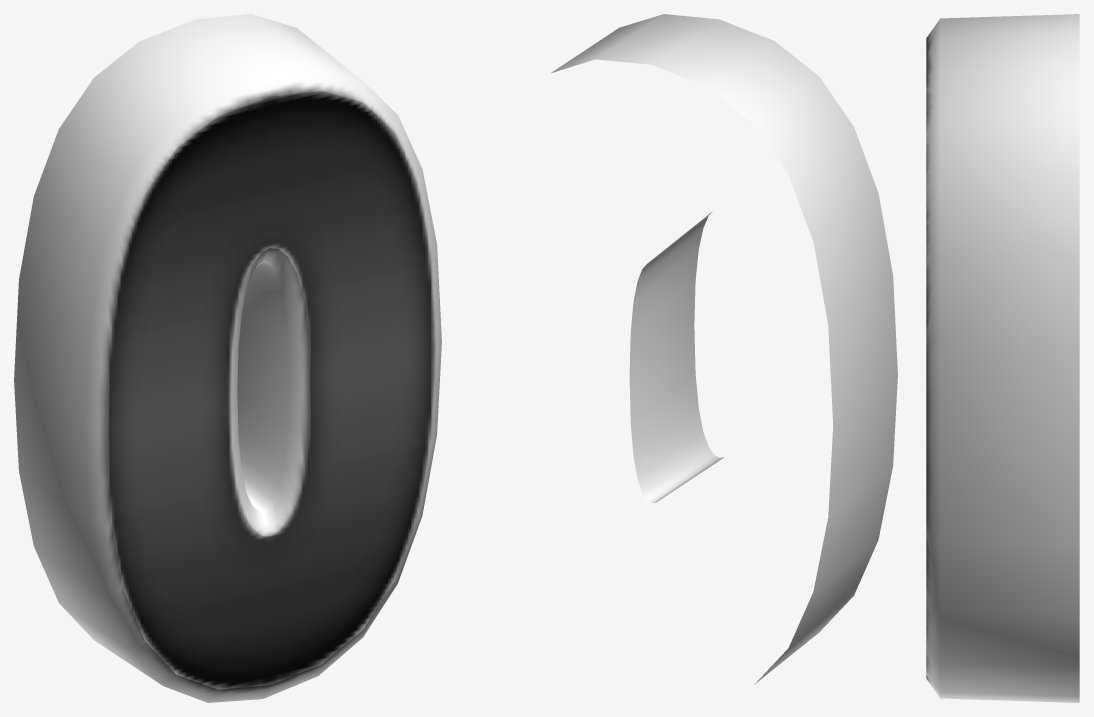
File: bbl_score_model__score_0b.glb
The picture shows the model from 3 angles, left to right: view 1: azimuth 30°, elevation 25°; view 2: azimuth 150°, elevation 25°; view 3: azimuth 270°, elevation 25°; orthographic projection. The views are drawn at different scales.
Parts seen in each view (by area): view 1: polygon1, polygon0; view 2: polygon0; view 3: polygon0.
Boxes of the visible parts, box(x1,y1,x2,y2) form: polygon1: box(106, 91, 433, 689); polygon0: box(14, 14, 441, 702); polygon0: box(550, 14, 897, 685); polygon0: box(926, 14, 1079, 702).
Size of the model in its own units: 3.09 by 5.16 by 1.1.
Materials: 2 (2 with a texture image).
